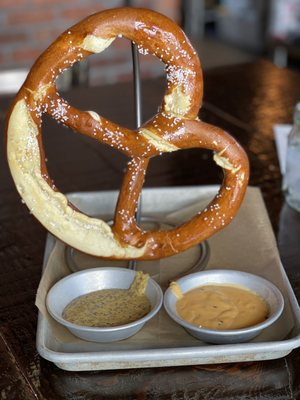sushi: (42, 267, 163, 344), (163, 269, 285, 345)
